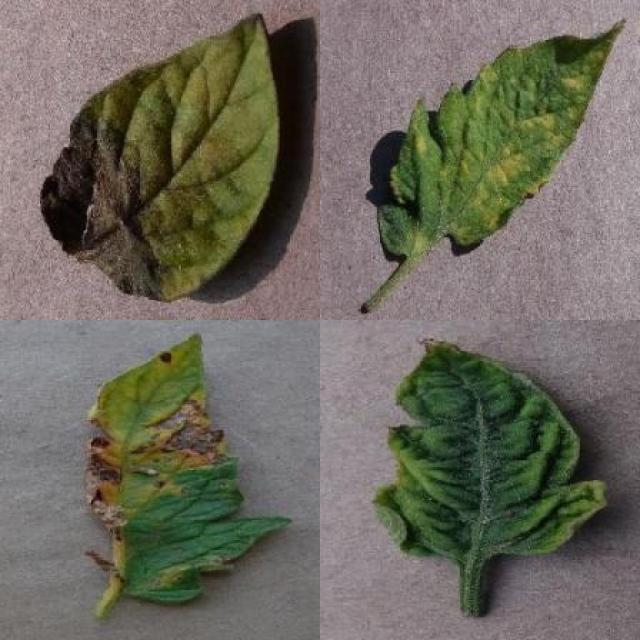Early Blight: (85, 332, 292, 602)
Late Blight: (41, 10, 282, 304)
Leaf Mold: (380, 20, 626, 257)
Yellow Leaf Curl Virus: (374, 335, 610, 571)
